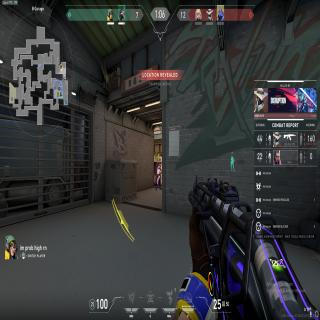ENEMY-BODY: (155, 162, 162, 193)
ENEMY-HEAD: (158, 163, 162, 168)
